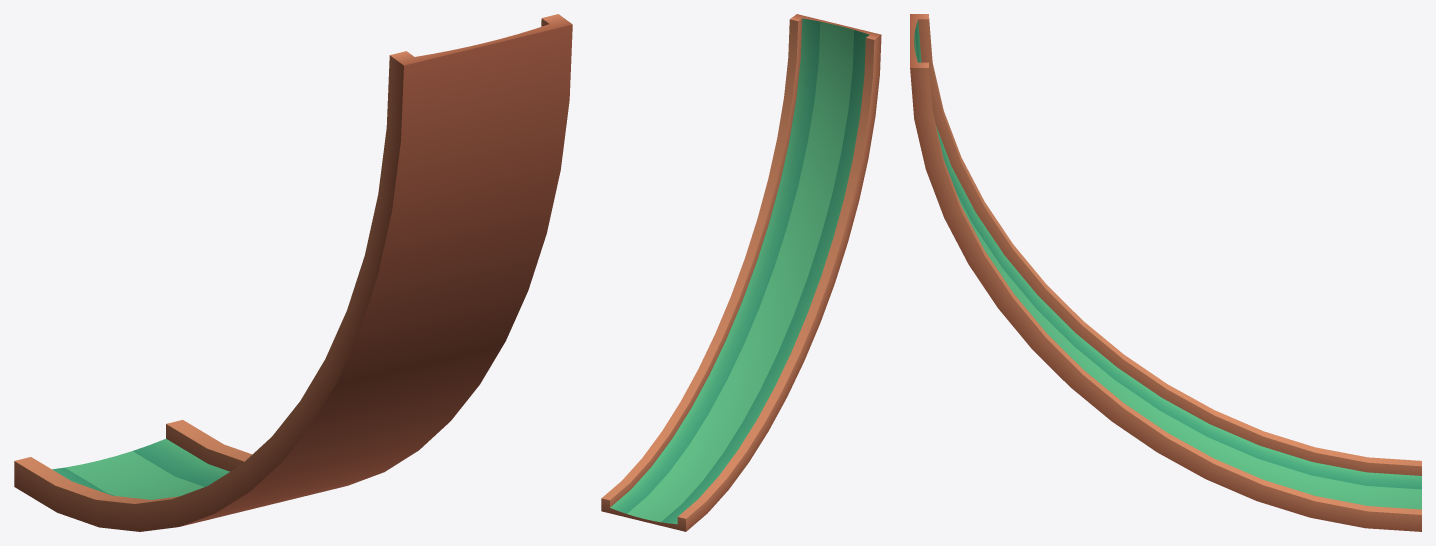
File: spline-concave-straight-bend-large.glb
3 views of the same model, side by side, from view 1: azimuth 30°, elevation 25°; view 2: azimuth 150°, elevation 25°; view 3: azimuth 270°, elevation 25° (orthographic). The views are drawn at different scales.
Visible parts, largest first — view 1: spline-concave-straight-bend-large; view 2: spline-concave-straight-bend-large; view 3: spline-concave-straight-bend-large.
Boxes of the visible parts, <box> form: spline-concave-straight-bend-large: <box>14,14,572,531</box>; spline-concave-straight-bend-large: <box>601,14,881,531</box>; spline-concave-straight-bend-large: <box>910,14,1421,531</box>.
Bounding box in the file's own units: 1 × 4 × 4.
1 material, 1 textured.
